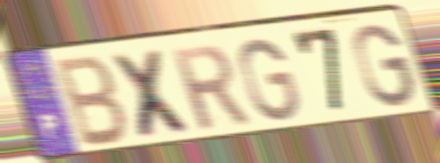7: (288, 26, 347, 119)
B: (53, 53, 131, 151)
G: (351, 22, 418, 111), (237, 36, 302, 124)
R: (166, 42, 254, 133)
X: (107, 47, 199, 142)
